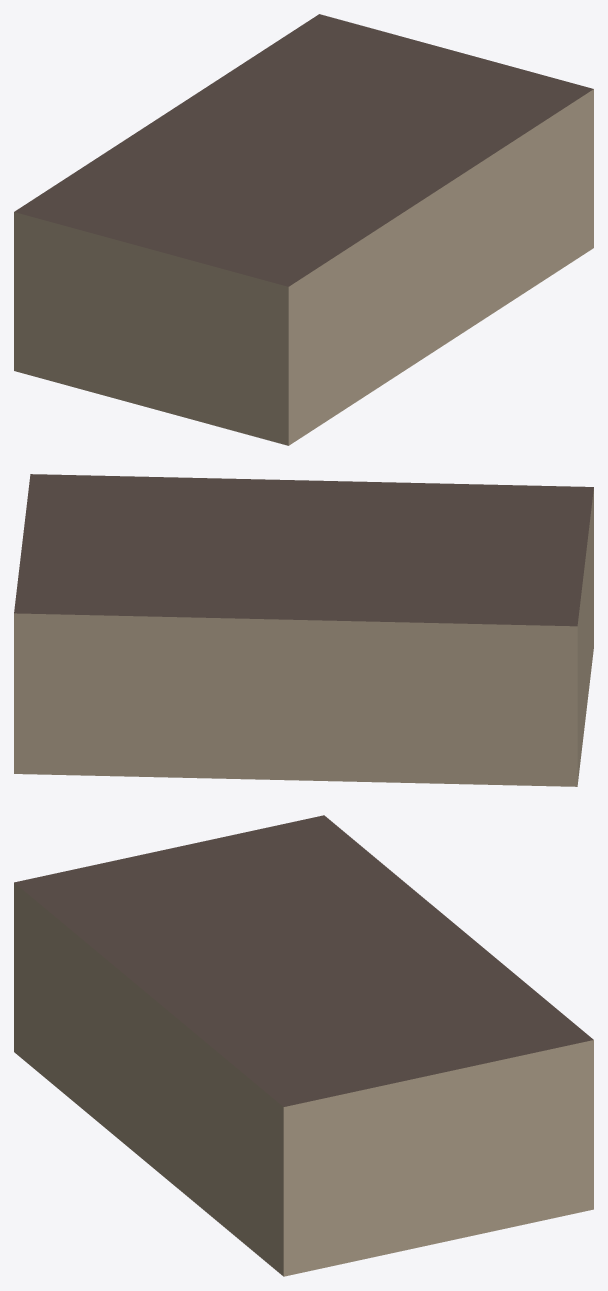
The picture shows the model from 3 angles, top to bottom: view 1: azimuth 30°, elevation 25°; view 2: azimuth 150°, elevation 25°; view 3: azimuth 270°, elevation 25°; orthographic projection. The views are drawn at different scales.
Visible parts, largest first — view 1: HP-w1467537297; view 2: HP-w1467537297; view 3: HP-w1467537297.
Boxes of the visible parts, x1,y1,x2,y2 form: HP-w1467537297: (14,14,593,445); HP-w1467537297: (14,474,593,786); HP-w1467537297: (14,815,593,1276).
Bounding box in the file's own units: 33.23 × 9 × 27.9.
